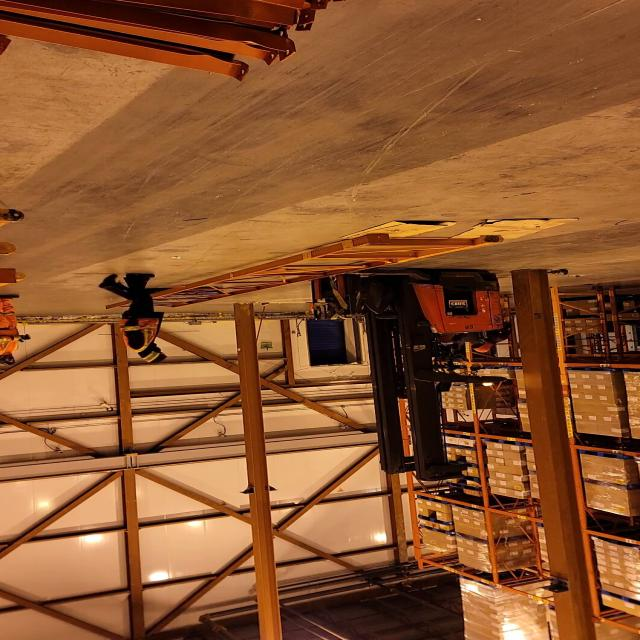forklift: (303, 263, 506, 476)
human: (96, 272, 166, 364), (452, 306, 532, 355), (0, 292, 30, 368)
objectofinterest: (101, 234, 507, 312), (448, 215, 584, 242), (339, 218, 461, 242)
